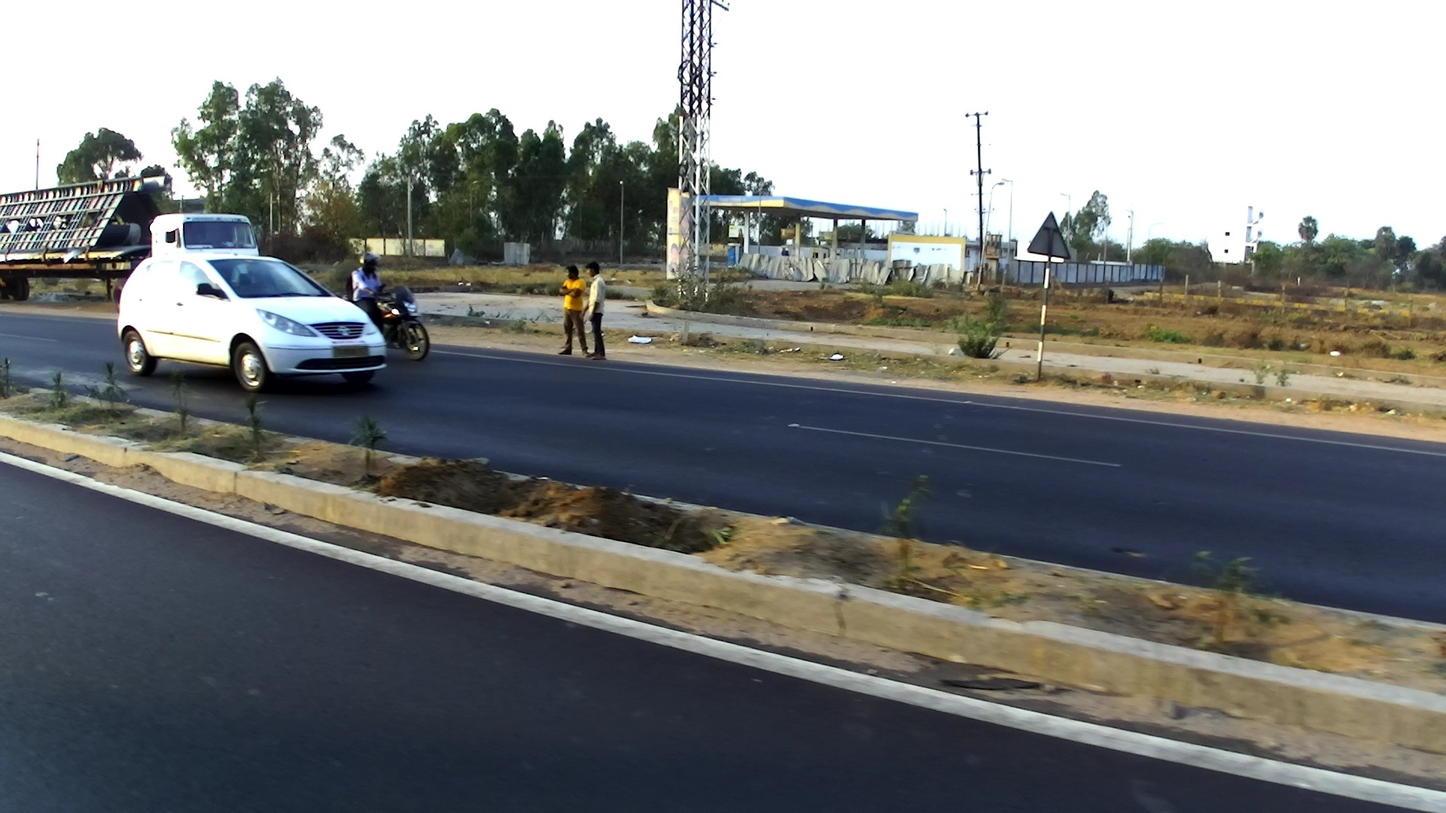car: (117, 251, 387, 395)
motorcycle: (358, 284, 430, 362)
person: (554, 260, 593, 358), (581, 262, 612, 364)
rider: (346, 253, 391, 335)
truck: (1, 179, 260, 301)
